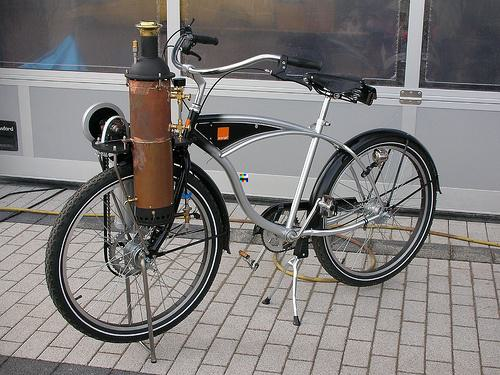car: (46, 16, 443, 341)
